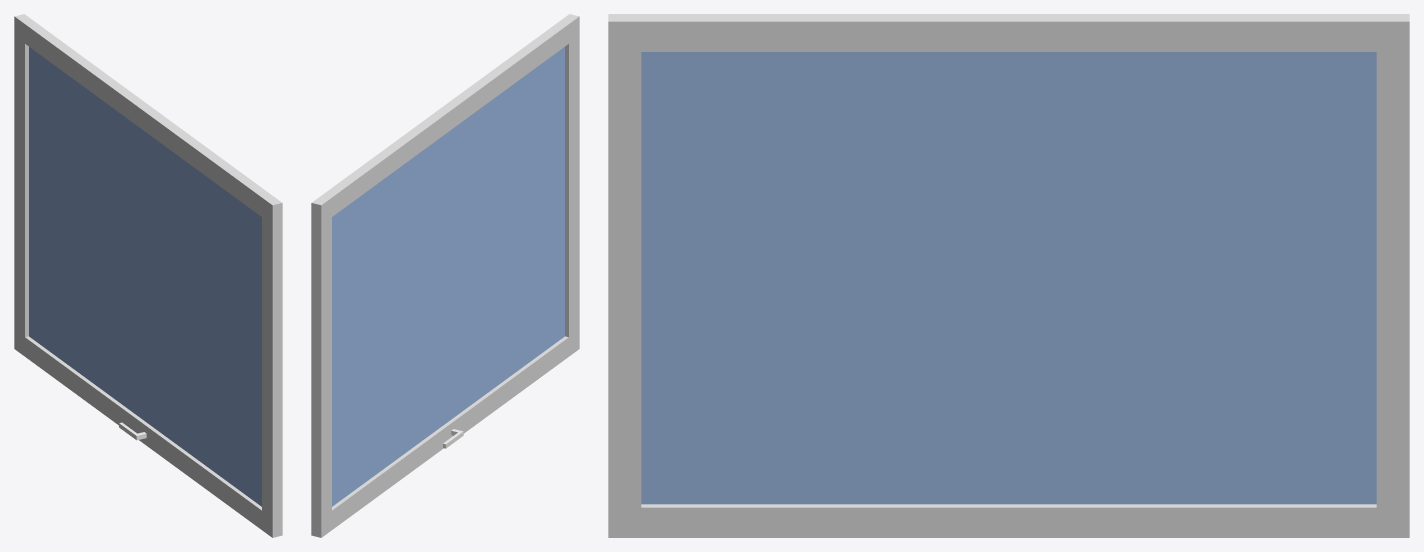
Rendered from window_2.fbx.
The picture shows the model from 3 angles, left to right: view 1: azimuth 30°, elevation 25°; view 2: azimuth 150°, elevation 25°; view 3: azimuth 270°, elevation 25°; orthographic projection. The views are drawn at different scales.
Parts seen in each view (by area): view 1: Mesh6 Group10 Group8 Fenster_gro__31_8_FINAL1 Group3 Group2 , Window_2; view 2: Mesh6 Group10 Group8 Fenster_gro__31_8_FINAL1 Group3 Group2 , Window_2; view 3: Mesh6 Group10 Group8 Fenster_gro__31_8_FINAL1 Group3 Group2 , Window_2.
Part boxes in pixels (x1,y1,x2,y2): Mesh6 Group10 Group8 Fenster_gro__31_8_FINAL1 Group3 Group2 : [29, 47, 261, 506]; Window_2: [14, 14, 282, 537]; Mesh6 Group10 Group8 Fenster_gro__31_8_FINAL1 Group3 Group2 : [332, 47, 564, 506]; Window_2: [311, 14, 579, 537]; Mesh6 Group10 Group8 Fenster_gro__31_8_FINAL1 Group3 Group2 : [641, 52, 1376, 504]; Window_2: [608, 14, 1409, 537].
Bounding box in the file's own units: 10 × 160 × 225.
